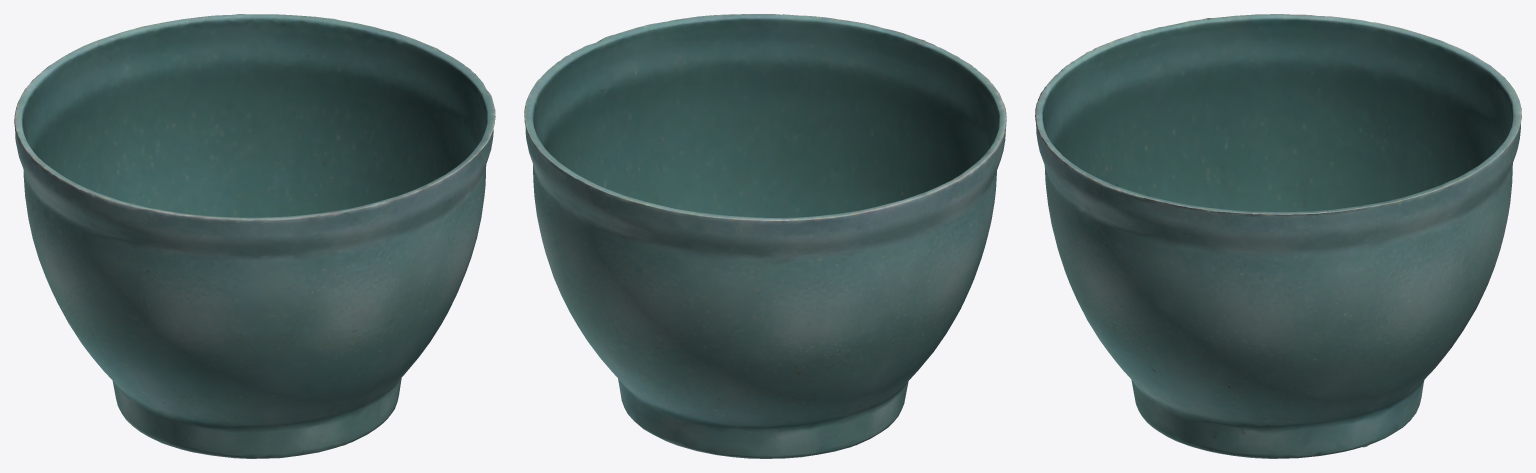
Rendered from Ecoforms_Plant_Container_FB6_Tur.glb.
The picture shows the model from 3 angles, left to right: view 1: azimuth 30°, elevation 25°; view 2: azimuth 150°, elevation 25°; view 3: azimuth 270°, elevation 25°; orthographic projection.
Parts seen in each view (by area): view 1: Ecoforms_Plant_Container_FB6_Tur; view 2: Ecoforms_Plant_Container_FB6_Tur; view 3: Ecoforms_Plant_Container_FB6_Tur.
Part boxes in pixels (x1,y1,x2,y2): Ecoforms_Plant_Container_FB6_Tur: [14, 14, 495, 458]; Ecoforms_Plant_Container_FB6_Tur: [524, 14, 1006, 458]; Ecoforms_Plant_Container_FB6_Tur: [1035, 14, 1521, 458].
Size of the model in its own units: 0.1615 by 0.1085 by 0.1617.
1 material, 1 textured.
